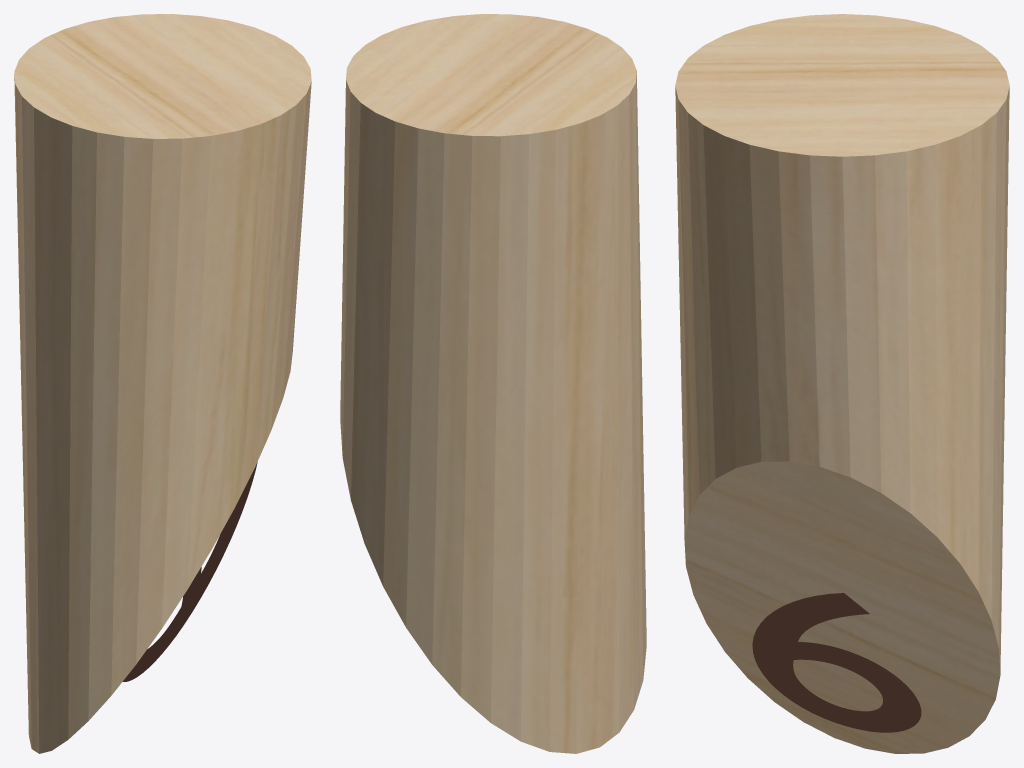
The model's file is pin9.glb.
3 renders of one model, left to right at view 1: azimuth 30°, elevation 25°; view 2: azimuth 150°, elevation 25°; view 3: azimuth 270°, elevation 25°, orthographic. The views are drawn at different scales.
Parts seen in each view (by area): view 1: 円柱.010; view 2: 円柱.010; view 3: 円柱.010.
Part boxes in pixels (box(x1,y1,x2,y2)): 円柱.010: box(14, 14, 311, 753); 円柱.010: box(340, 14, 646, 753); 円柱.010: box(675, 14, 1009, 753).
Bounding box in the file's own units: 1.16 × 2.79 × 1.16.
2 materials, 1 textured.
